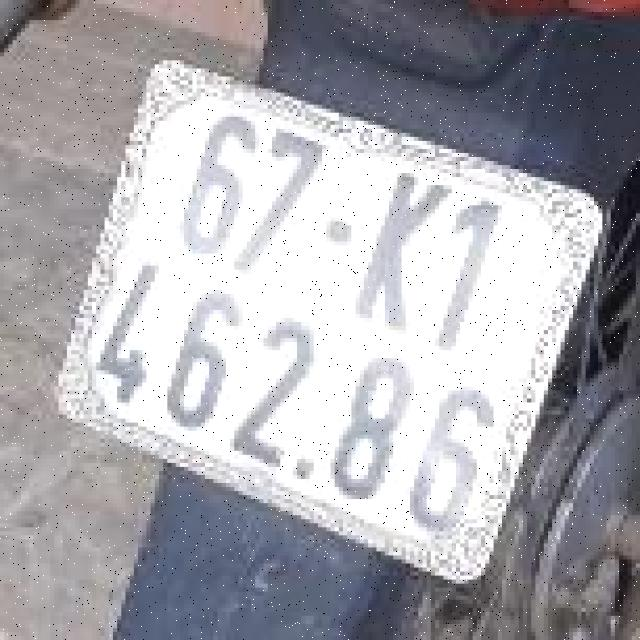1: (406, 177, 523, 367)
2: (221, 292, 336, 488)
4: (76, 249, 184, 420)
6: (388, 364, 518, 557), (158, 97, 276, 272), (146, 274, 262, 448)
7: (217, 114, 344, 293)
8: (319, 338, 435, 524)
K: (340, 161, 459, 344)
